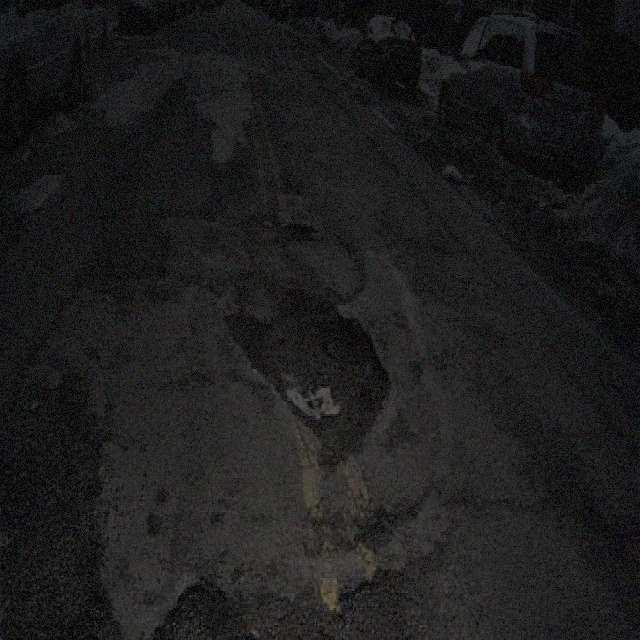pothole: (287, 214, 315, 244)
